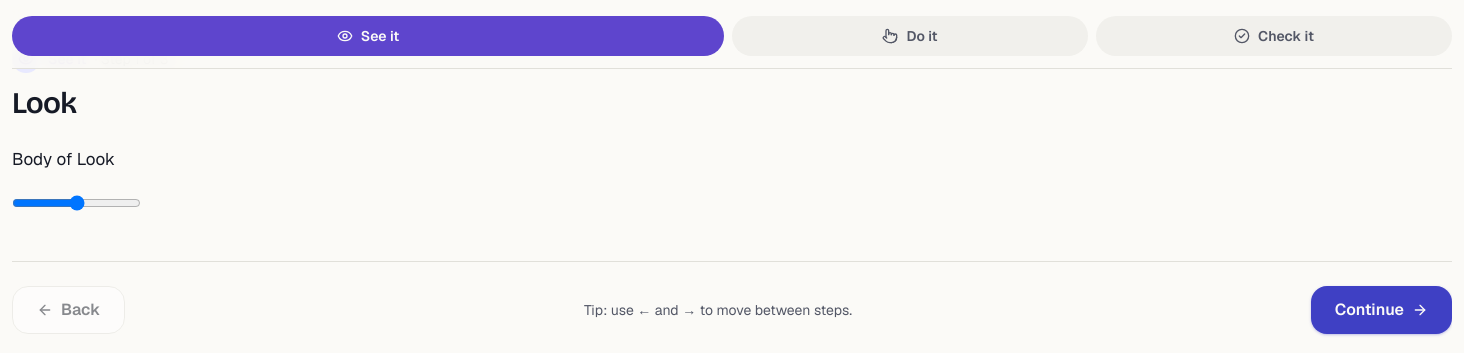
Scenario: LessonDeck › moves with Continue and Back and records the step in the URL
Step 1. Click the button "Continue" → [1381, 310], box [1311, 286, 1452, 334]
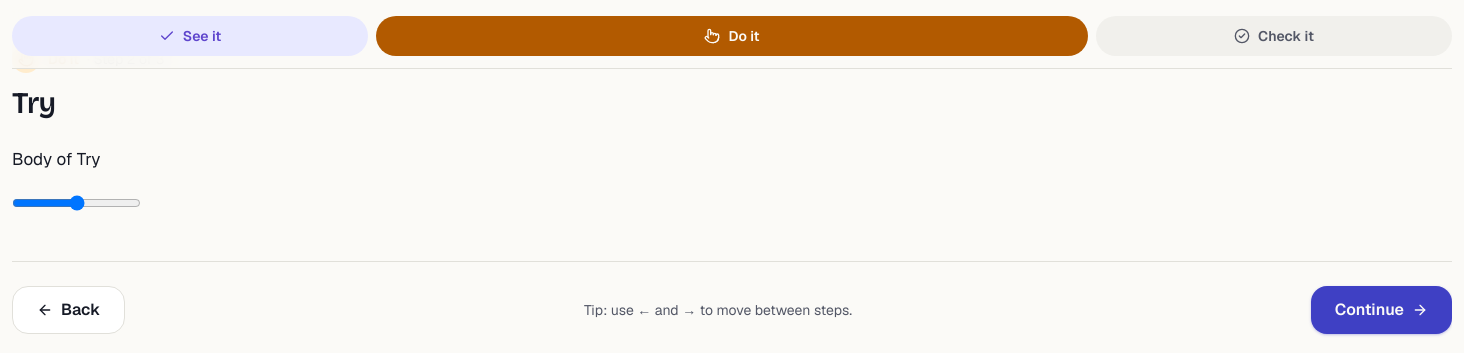
Now the heading reads "Try", box [12, 85, 55, 121]
Step 2. Click the button "Back" → [69, 310], box [12, 286, 125, 334]
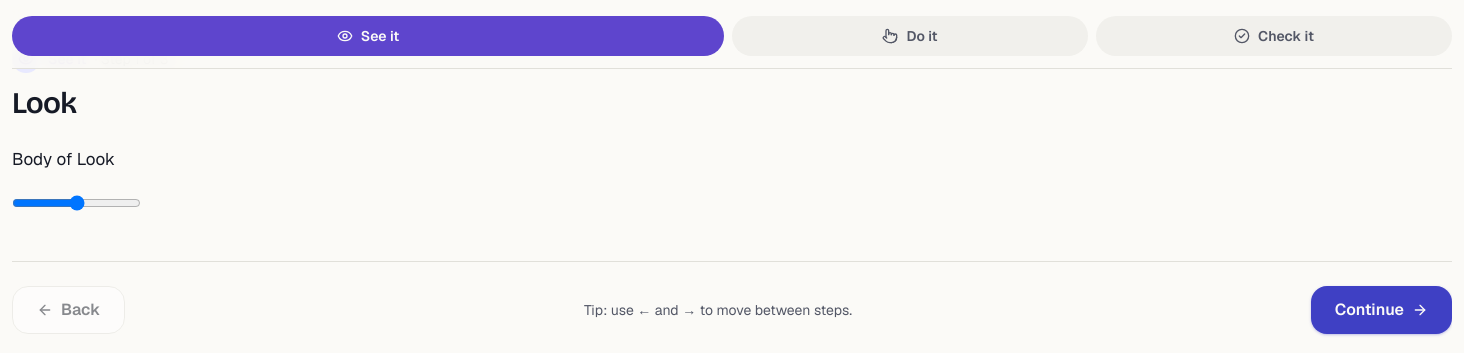
Now the heading reads "Look", box [12, 85, 76, 121]
